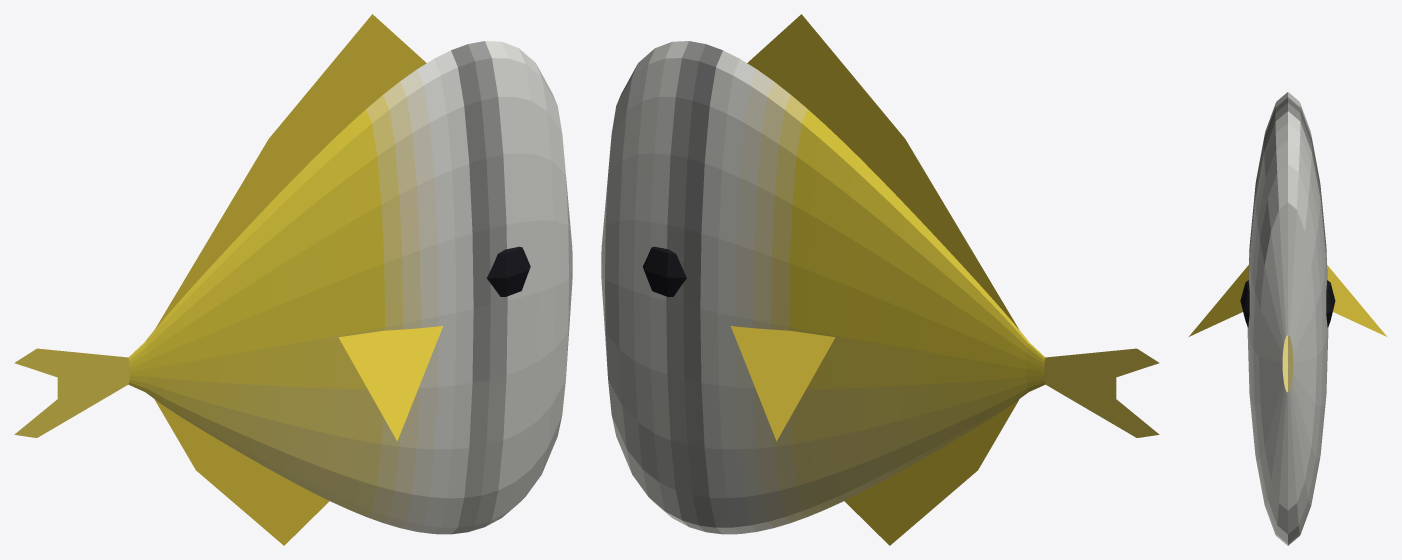
The model's file is reef_butter.glb.
3 renders of one model, left to right at view 1: azimuth 30°, elevation 25°; view 2: azimuth 150°, elevation 25°; view 3: azimuth 270°, elevation 25°, orthographic. The views are drawn at different scales.
Parts seen in each view (by area): view 1: Body, Tail; view 2: Body, Tail; view 3: Body.
Boxes of the visible parts, x1=… form: Body: x1=128, y1=14, x2=572, y2=545; Tail: x1=14, y1=348, x2=129, y2=437; Body: x1=601, y1=14, x2=1045, y2=545; Tail: x1=1044, y1=348, x2=1159, y2=437; Body: x1=1189, y1=92, x2=1386, y2=545.
Size of the model in its own units: 1.07 by 0.9967 by 0.374.
